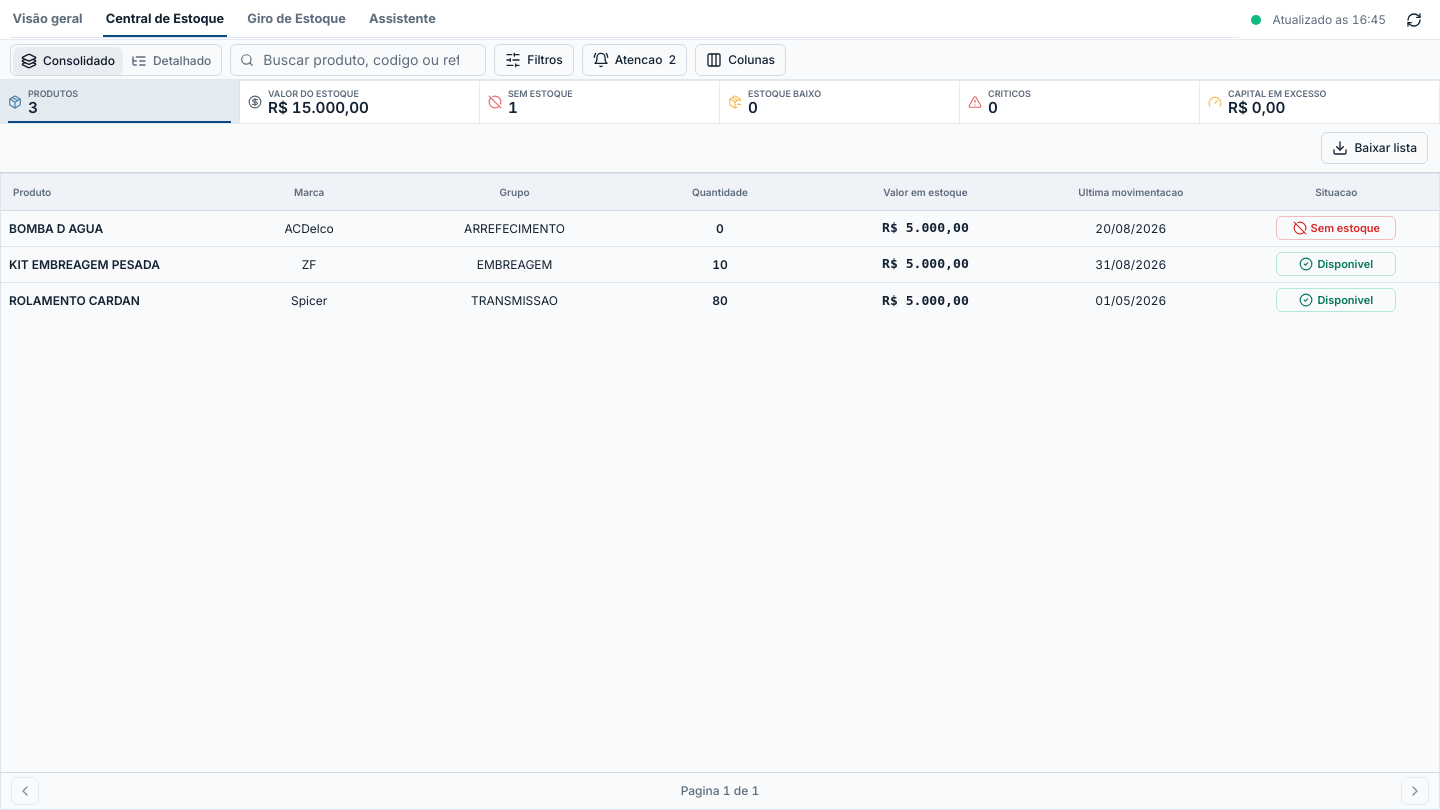
Test case: EstoquePage › mantem busca de Giro pendente ate a aplicacao explicita
Click the tab "Giro de Estoque".
click(297, 19)  # box [245,1,348,37]
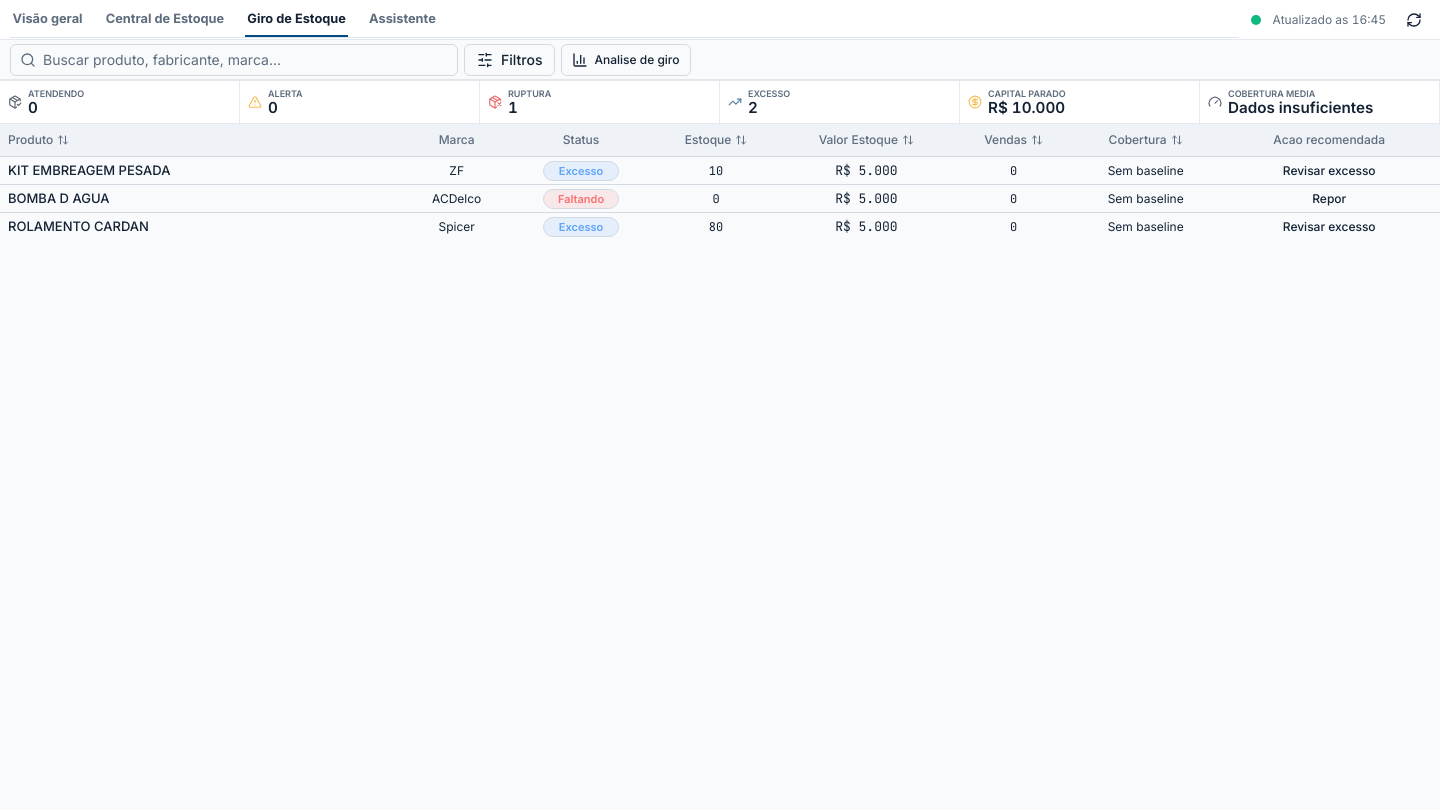
Type "bomba" into the field with placeholder "Buscar produto, fabricante, marca...".
click(234, 60); type("bomba")  # box [10,44,458,76]
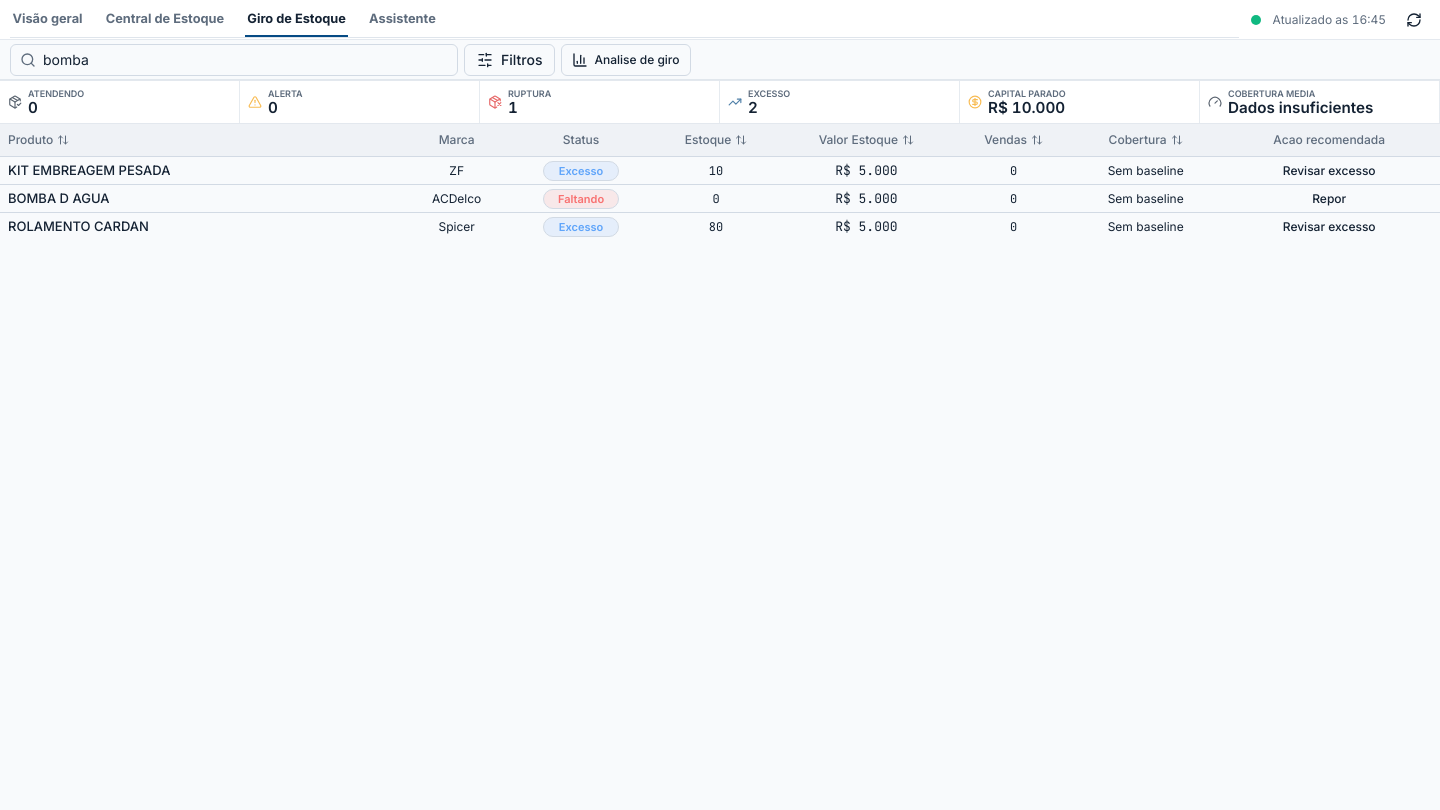
Expected: the text "KIT EMBREAGEM PESADA" is shown, [8,164,170,177]
Expected: the text "BOMBA D AGUA" is shown, [8,192,110,205]
Press Enter in the field with placeholder "Buscar produto, fabricante, marca...", box [10,44,458,76]
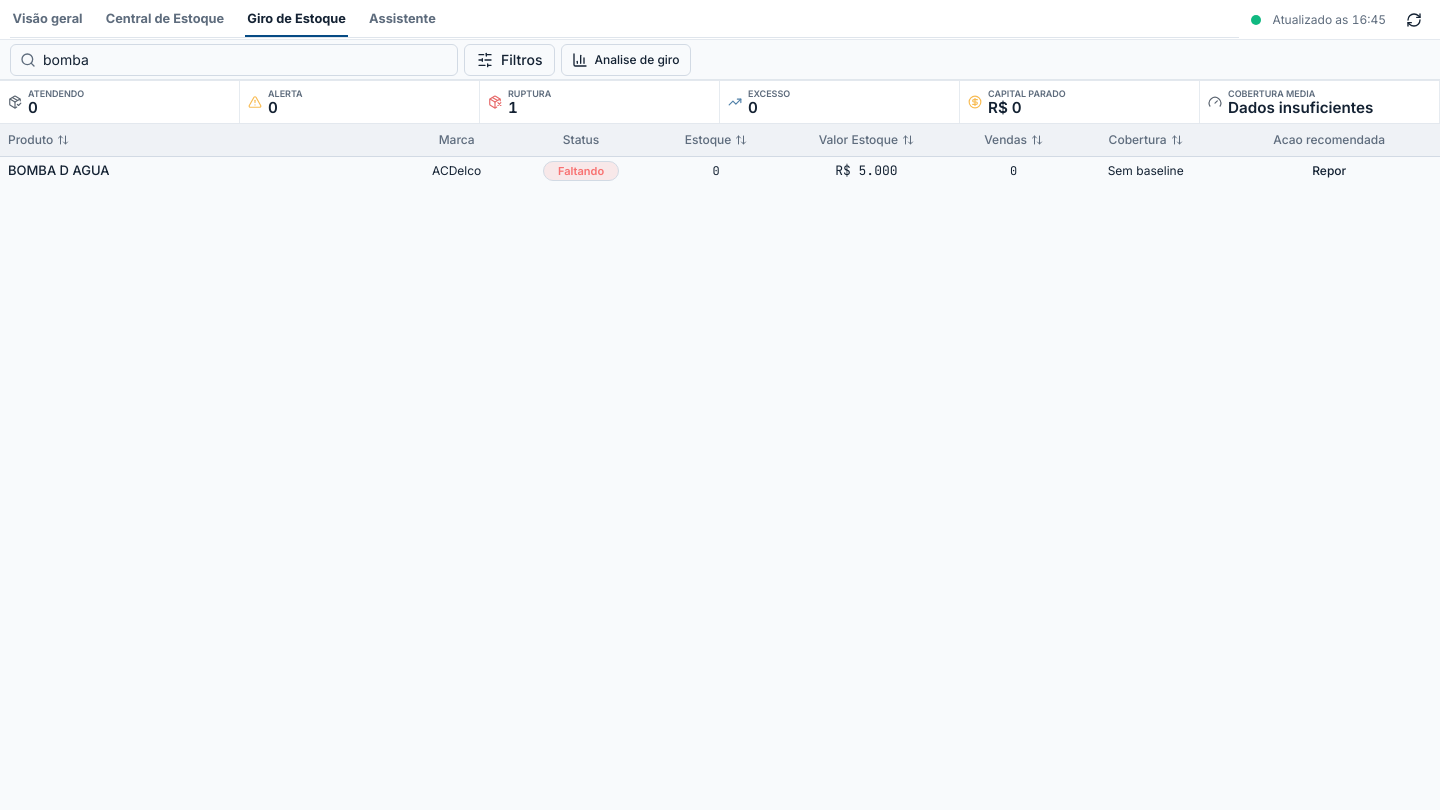
Expected: the text "BOMBA D AGUA" is shown, [8,164,110,177]
Expected: the text "KIT EMBREAGEM PESADA" is gone
Click the button with aria-label "Abrir analise de giro".
click(626, 60)  # box [561,44,690,76]
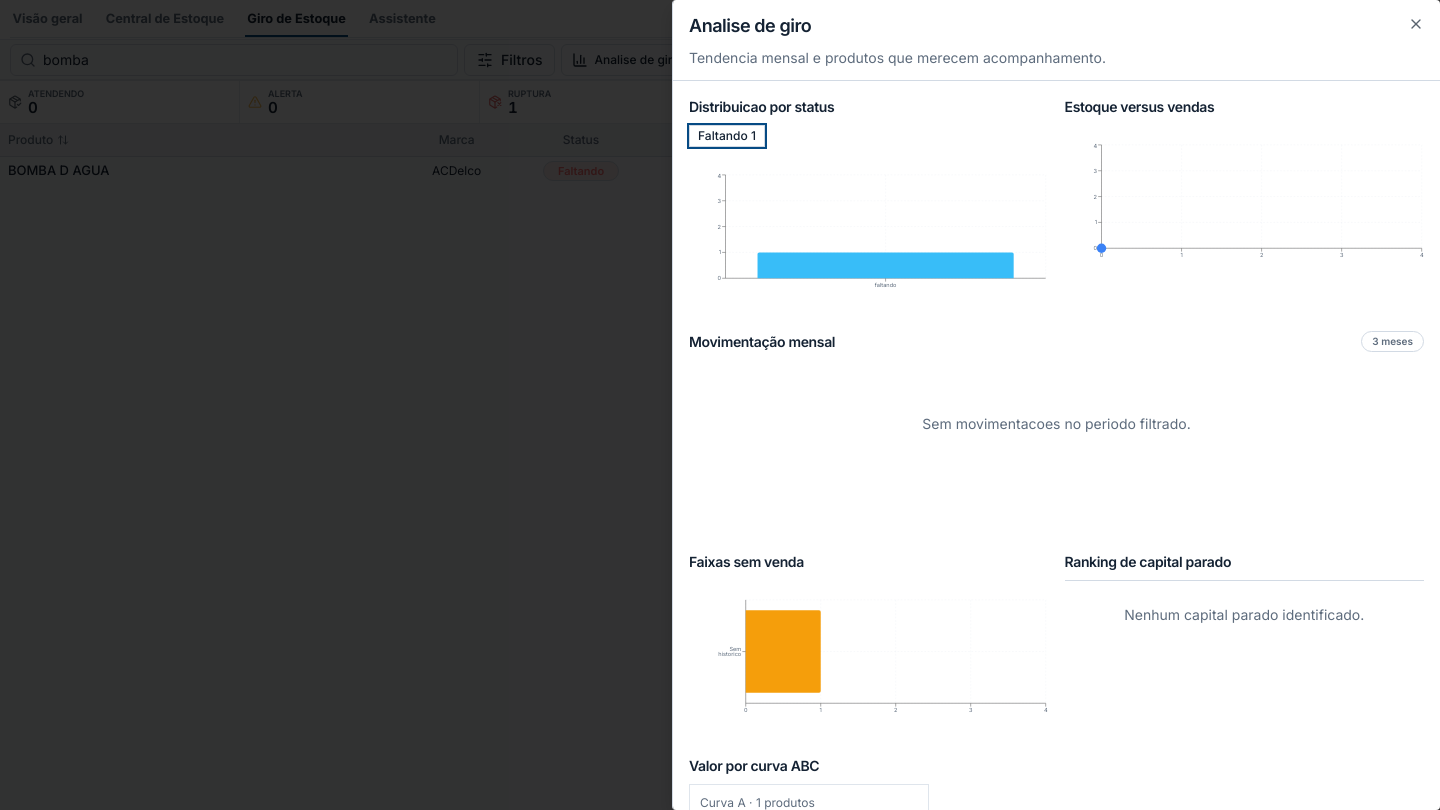
Expected: the dialog "Analise de giro" is shown, [672,0,1439,809]
Expected: the heading "Movimentação mensal" is shown, [689,332,835,352]
Expected: the text "3 meses" is shown, [1361,331,1424,352]
